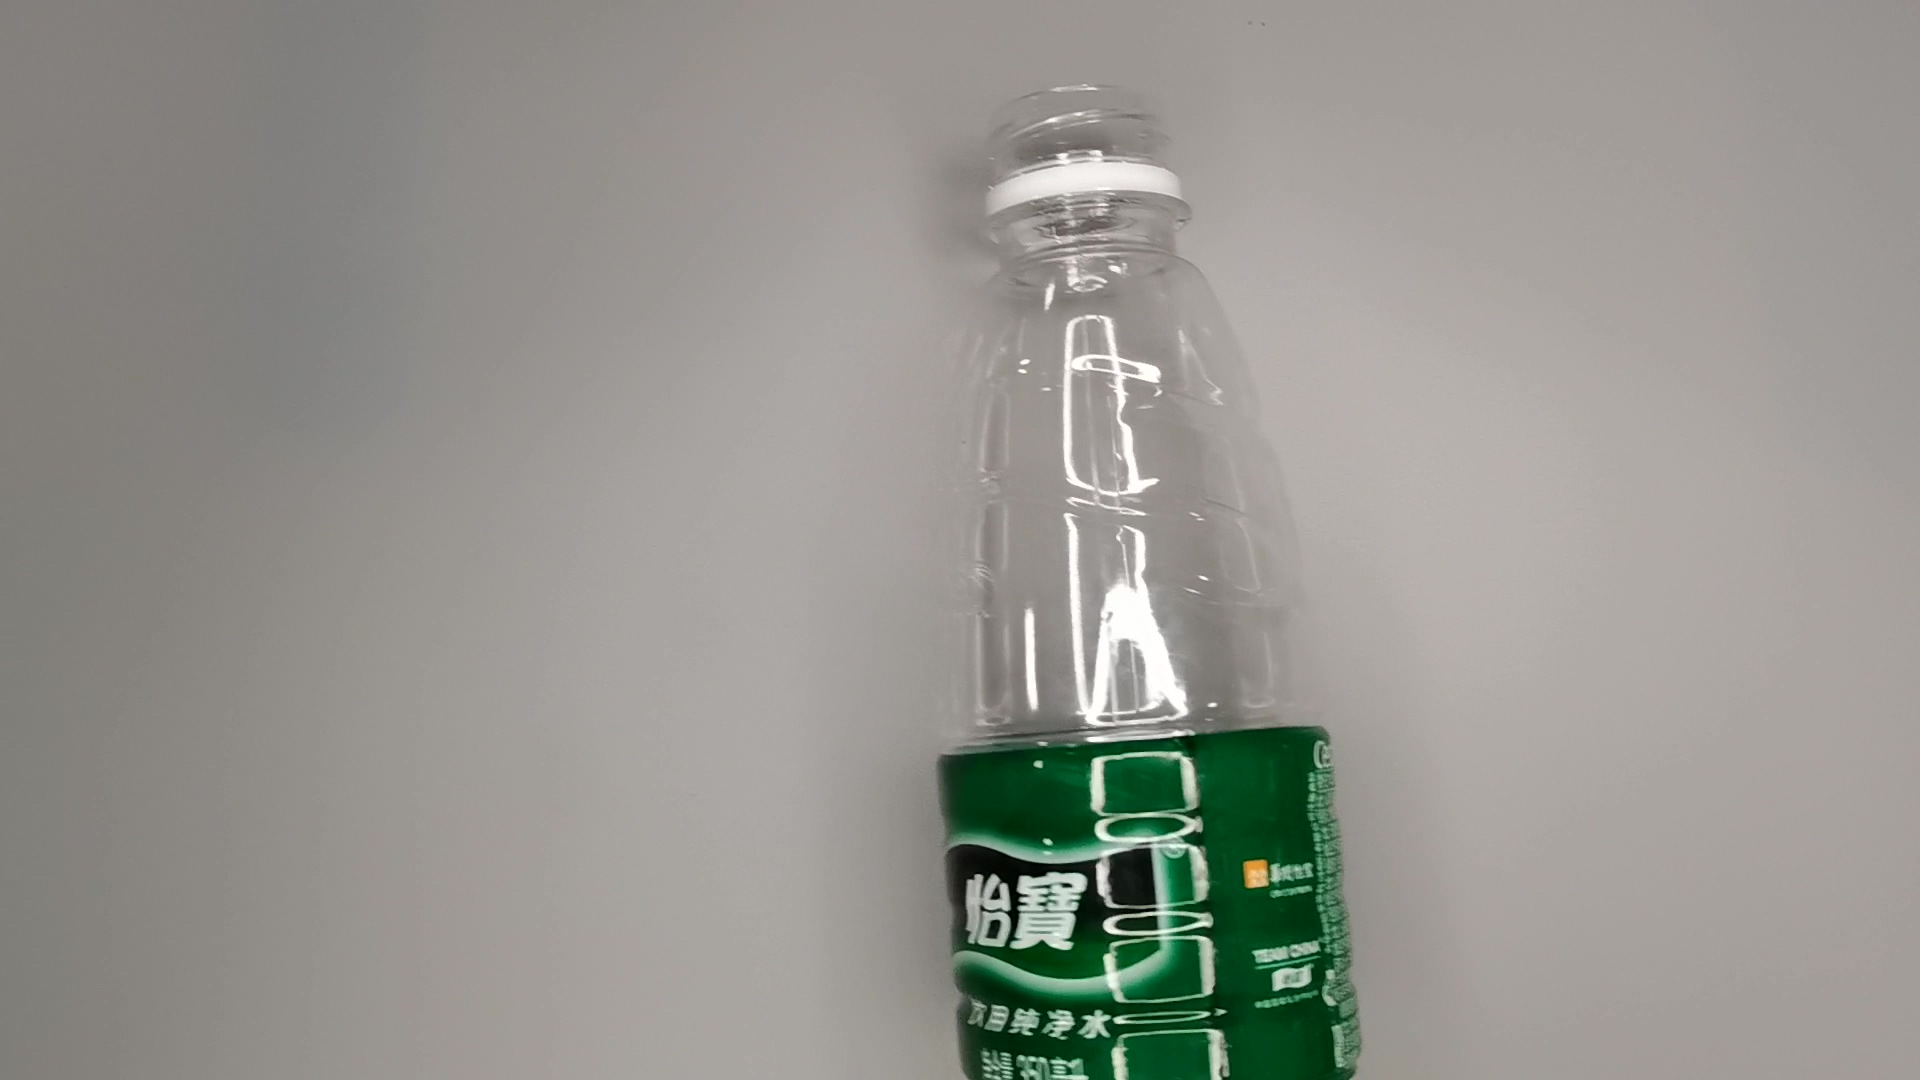bottle: (926, 82, 1378, 1080)
